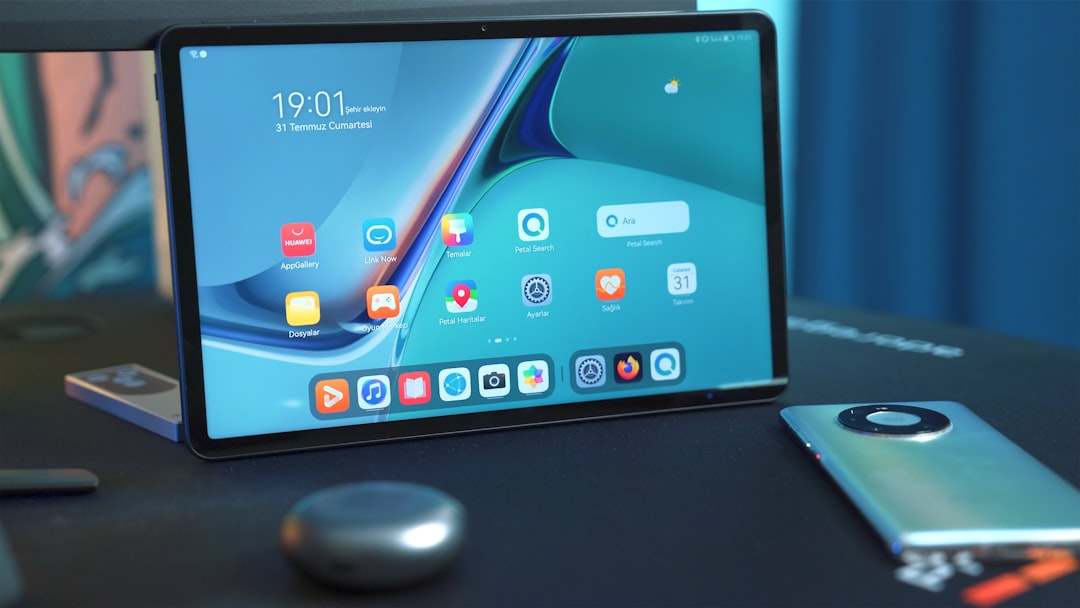phone: (780, 402, 1080, 561)
